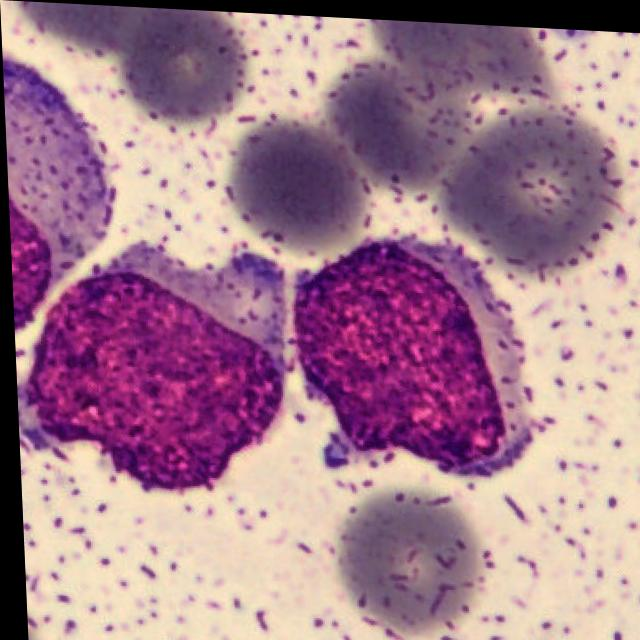Mieloblasto: (13, 240, 287, 491), (293, 236, 528, 472)
